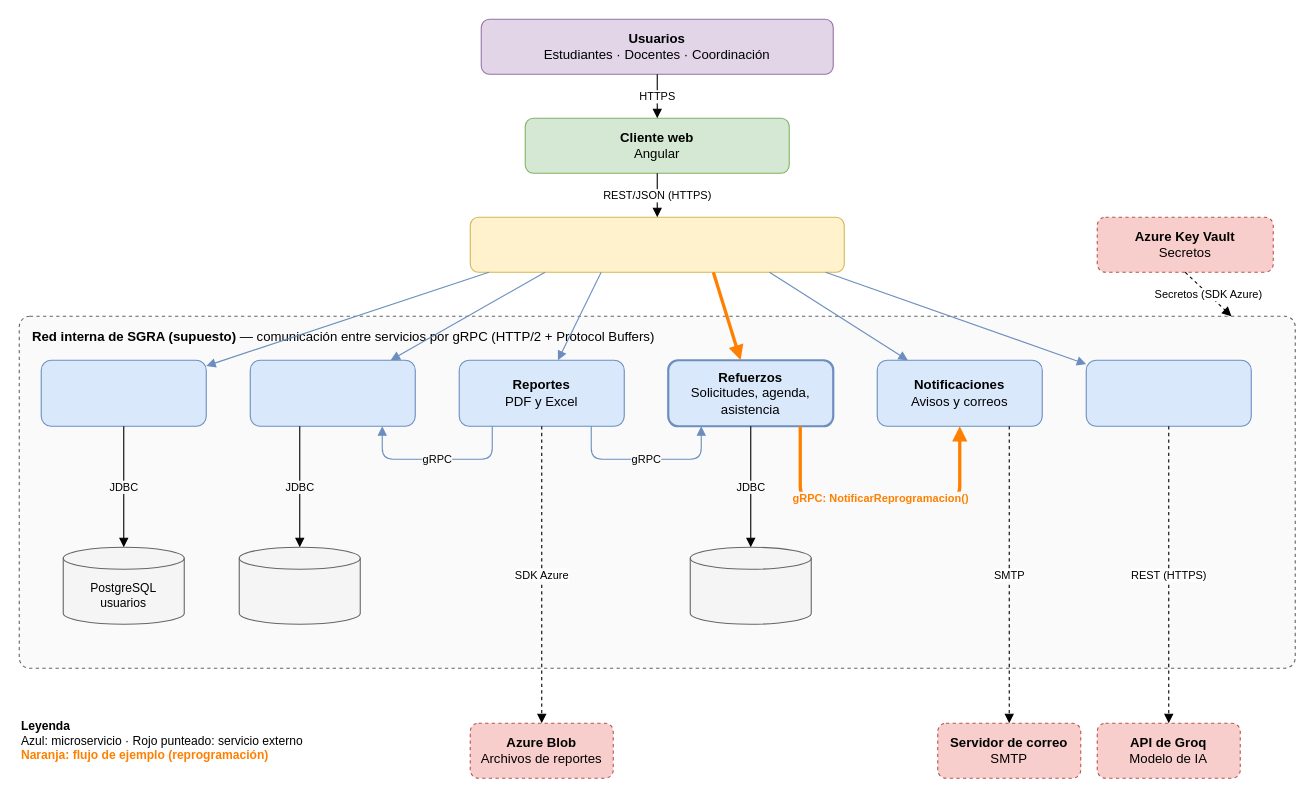
Image size: 1315x798. Some labels were removed from this diagram. The shapes that lost their labels are listed below. From the top down, each one's centre as x and y in pixels, then its label:
At (656,244): "API Gateway Traduce REST/JSON a gRPC".
At (123,392): "Usuarios Login y roles".
At (332,392): "Académico Registro masivo del semestre".
At (1168,392): "Chatbot Preguntas y guías".
At (299,585): "PostgreSQL académico".
At (750,585): "PostgreSQL refuerzos".
